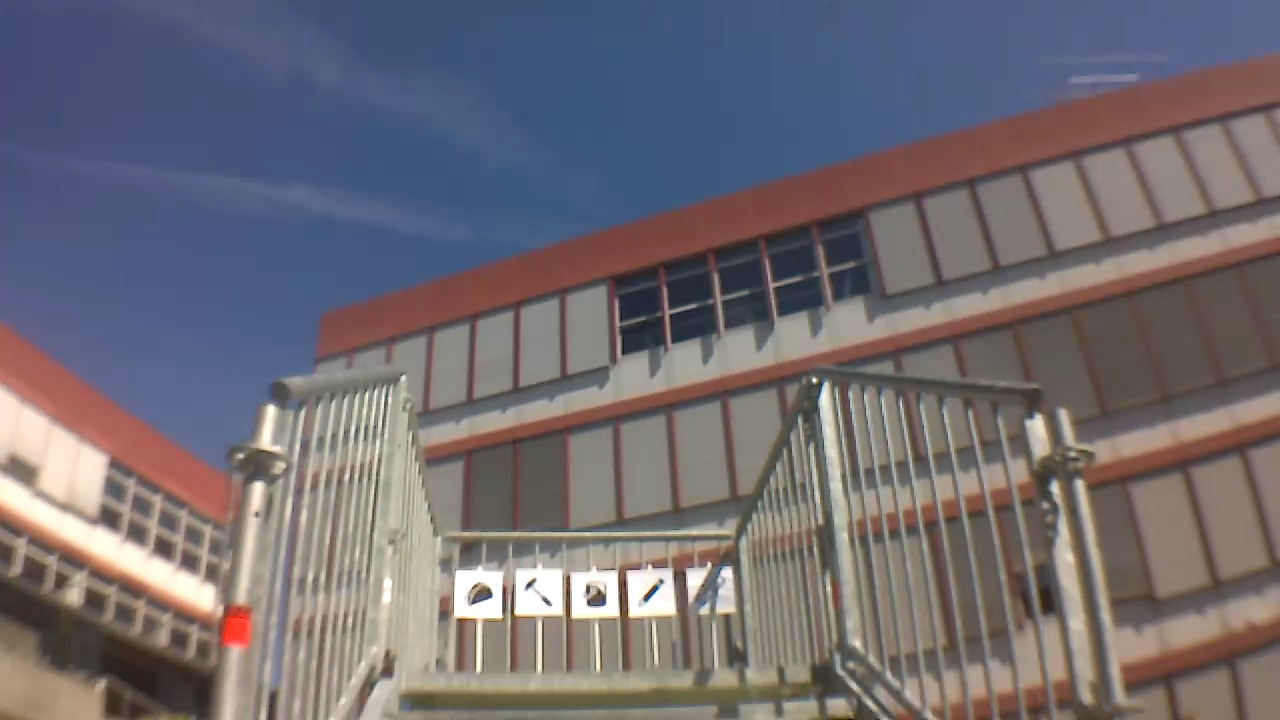edge: (398, 662, 841, 694), (379, 700, 862, 720)
stairs: (217, 372, 1121, 720)
